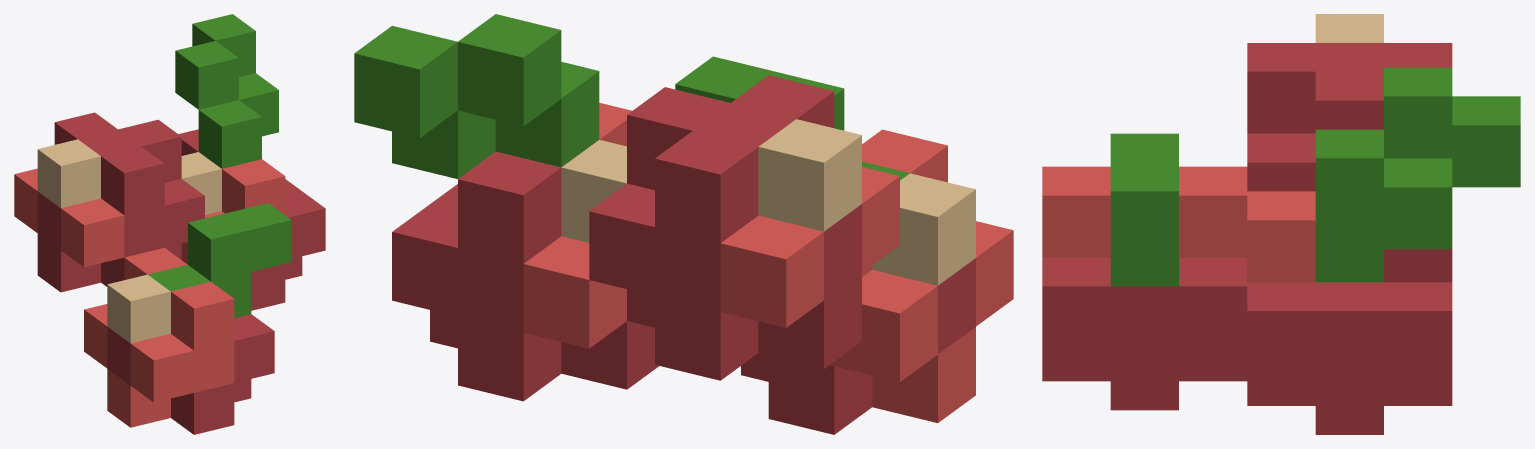
File: cubeland1-36.obj
3 views of the same model, side by side, from view 1: azimuth 30°, elevation 25°; view 2: azimuth 150°, elevation 25°; view 3: azimuth 270°, elevation 25° (orthographic). The views are drawn at different scales.
Size of the model in its own units: 0.6 by 0.6 by 0.7.
Materials: 1 (1 with a texture image).
